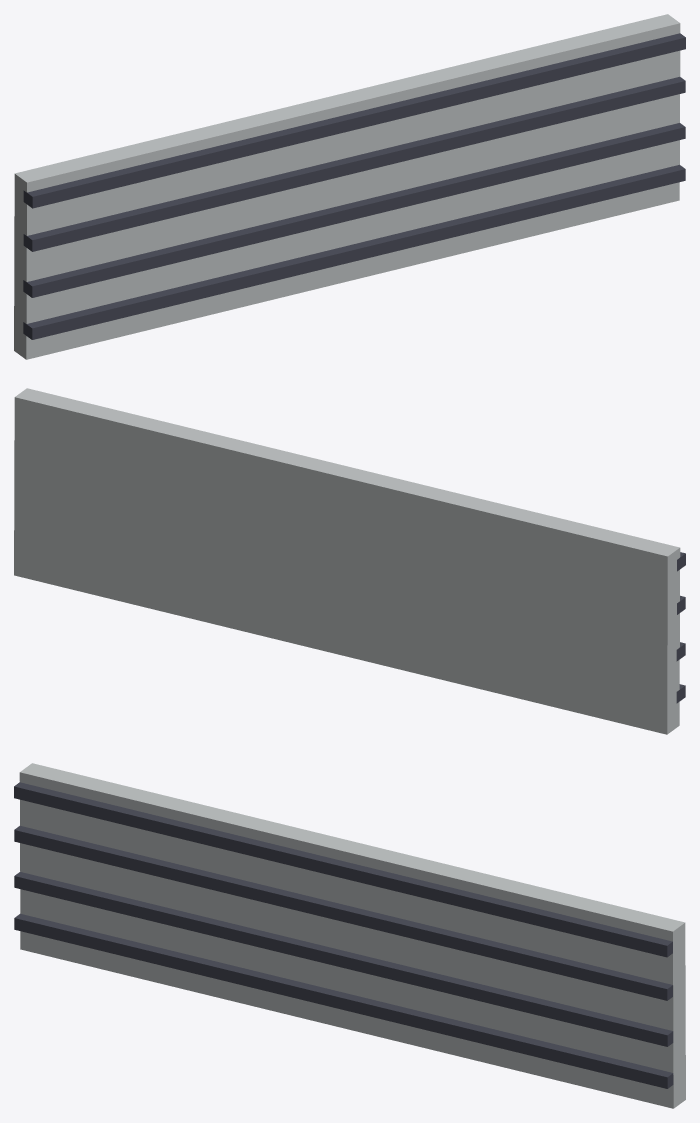
Rendered from cochera.obj.
The picture shows the model from 3 angles, top to bottom: view 1: azimuth 30°, elevation 25°; view 2: azimuth 150°, elevation 25°; view 3: azimuth 330°, elevation 25°; orthographic projection.
Parts seen in each view (by area): view 1: polySurface150; view 2: polySurface150; view 3: polySurface150.
Part boxes in pixels (x1=…): polySurface150: x1=14, y1=14, x2=685, y2=359; polySurface150: x1=14, y1=388, x2=685, y2=734; polySurface150: x1=14, y1=763, x2=685, y2=1108.
Bounding box in the file's own units: 6.4 × 1.66 × 0.3181.
